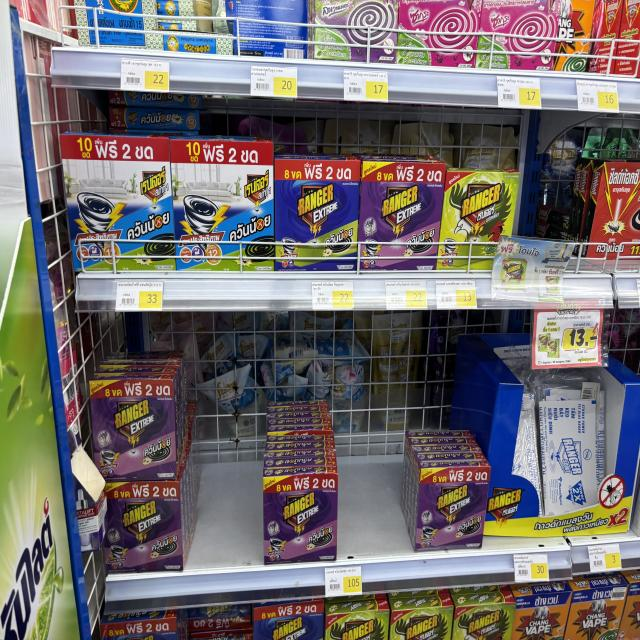empty_shelf: (182, 356, 264, 571), (333, 345, 413, 561), (510, 161, 604, 273), (411, 343, 486, 463), (267, 349, 337, 472)
